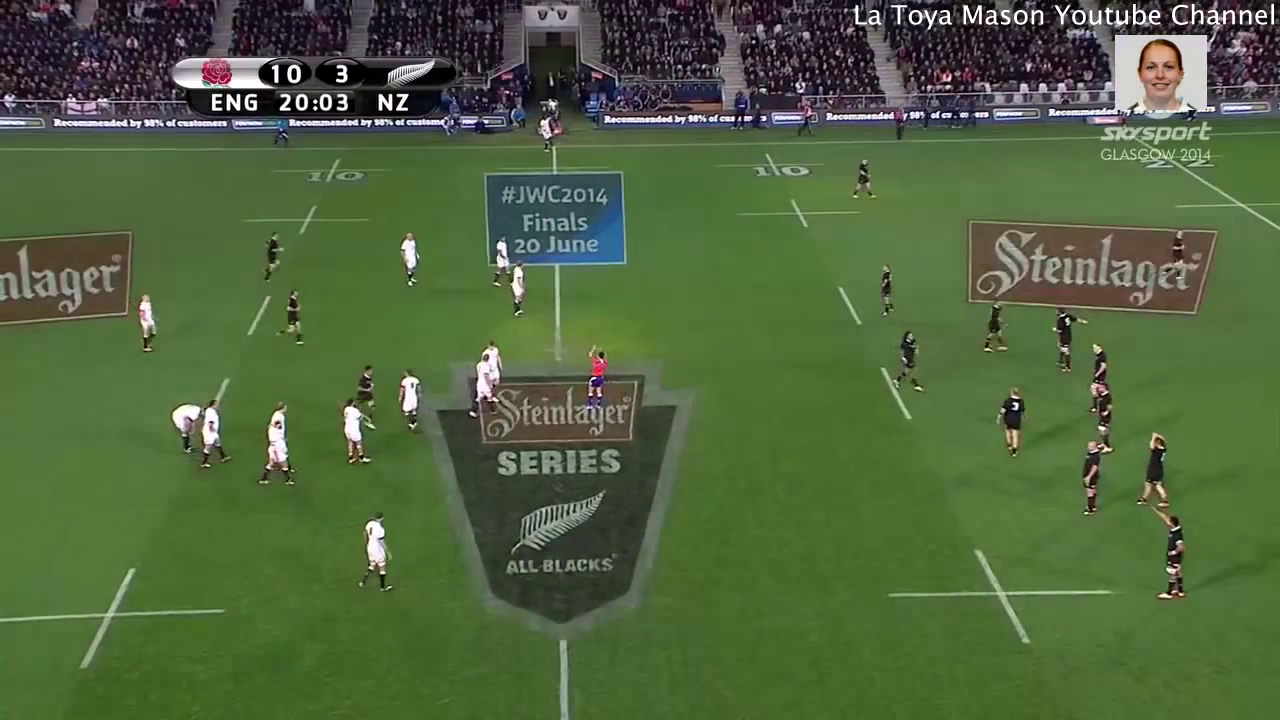10_metre: (1, 564, 229, 674), (894, 549, 1121, 649), (709, 152, 832, 188), (242, 205, 371, 238), (737, 200, 869, 232), (270, 157, 389, 189)
player: (257, 396, 299, 492), (991, 377, 1031, 467), (360, 511, 400, 599), (1153, 512, 1188, 606), (1137, 426, 1175, 512), (1049, 303, 1089, 376), (335, 396, 375, 468), (580, 343, 616, 416), (196, 396, 233, 467), (129, 290, 166, 357), (891, 324, 924, 395), (1077, 436, 1105, 519), (277, 286, 311, 352), (393, 368, 426, 435), (166, 396, 201, 456), (257, 224, 289, 283), (1088, 380, 1118, 441), (469, 354, 497, 417), (850, 152, 881, 208), (1164, 226, 1192, 286), (398, 228, 425, 290), (873, 260, 902, 316), (982, 296, 1010, 350), (489, 232, 514, 291), (506, 257, 529, 321), (482, 340, 504, 394), (354, 360, 377, 410), (1087, 342, 1109, 380), (539, 112, 556, 152)
